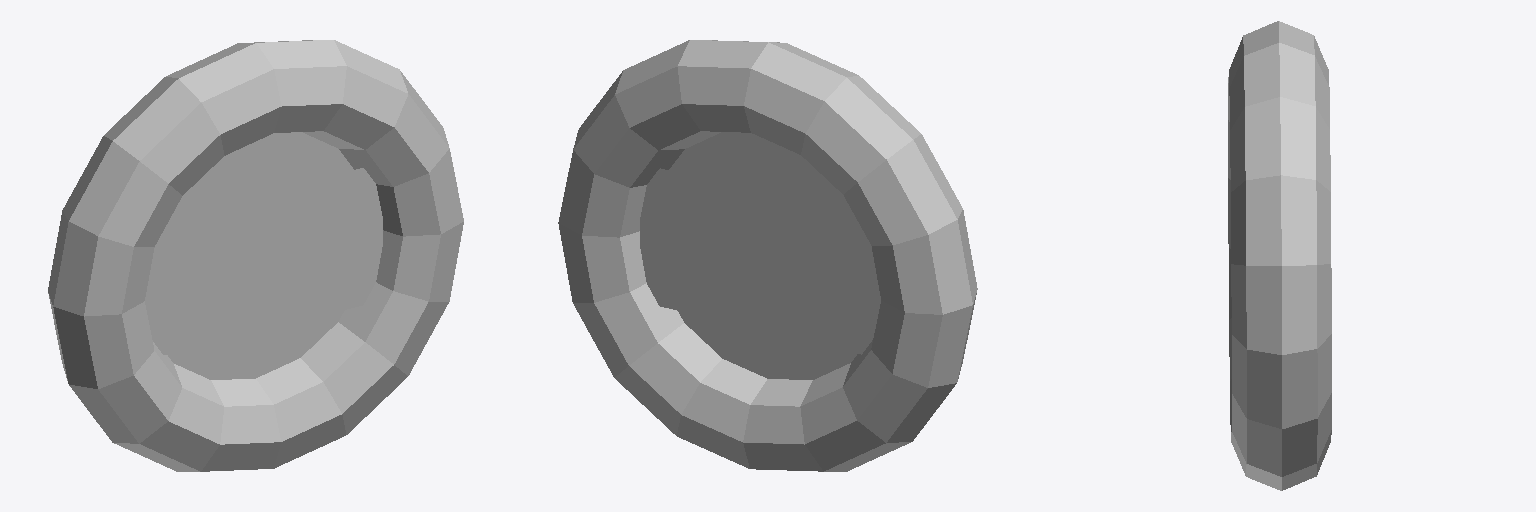
The model's file is Goal Ring.obj.
3 renders of one model, left to right at view 1: azimuth 30°, elevation 25°; view 2: azimuth 150°, elevation 25°; view 3: azimuth 270°, elevation 25°, orthographic.
Parts seen in each view (by area): view 1: Mesh_0148.002; view 2: Mesh_0148.002; view 3: Mesh_0148.002.
Part boxes in pixels (x1,y1,x2,y2): Mesh_0148.002: (48, 40, 463, 471); Mesh_0148.002: (558, 40, 977, 471); Mesh_0148.002: (1228, 21, 1331, 490).
Bounding box in the file's own units: 5.14 × 5.14 × 1.13.